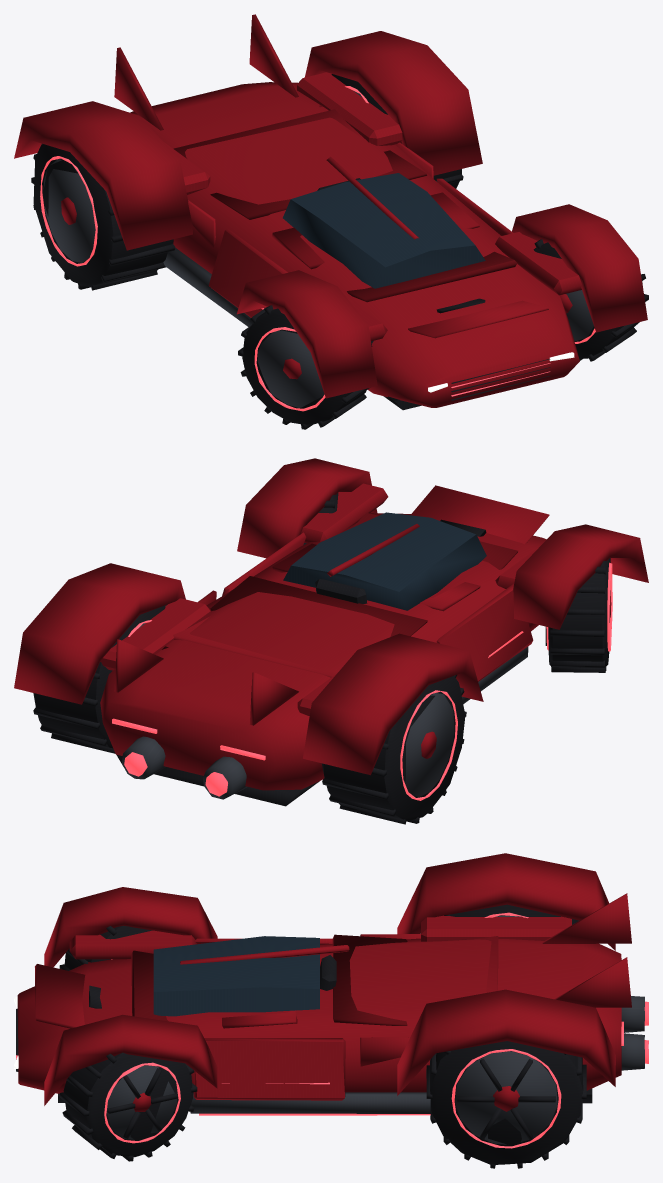
Rendered from crx1_interceptor_lod1.glb.
The picture shows the model from 3 angles, top to bottom: view 1: azimuth 30°, elevation 25°; view 2: azimuth 150°, elevation 25°; view 3: azimuth 270°, elevation 25°; orthographic projection. The views are drawn at different scales.
Visible parts, largest first — view 1: crx1_interceptor_LOD1; view 2: crx1_interceptor_LOD1; view 3: crx1_interceptor_LOD1.
Boxes of the visible parts, x1,y1,x2,y2 form: crx1_interceptor_LOD1: (14, 14, 648, 429); crx1_interceptor_LOD1: (14, 458, 648, 824); crx1_interceptor_LOD1: (14, 853, 648, 1168).
Size of the model in its own units: 4.06 by 1.75 by 6.3.
Materials: 9 (9 with a texture image).
